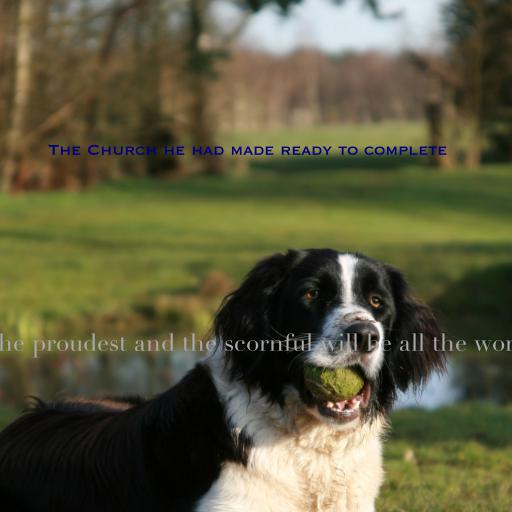Copperplate: (47, 144, 447, 156)
Didot: (0, 333, 512, 358)
